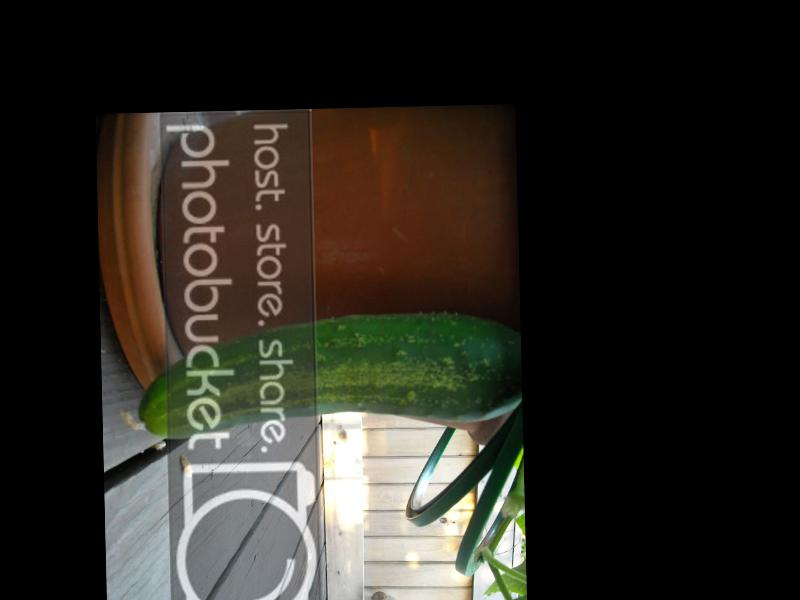Cucumber: (119, 310, 518, 440)
